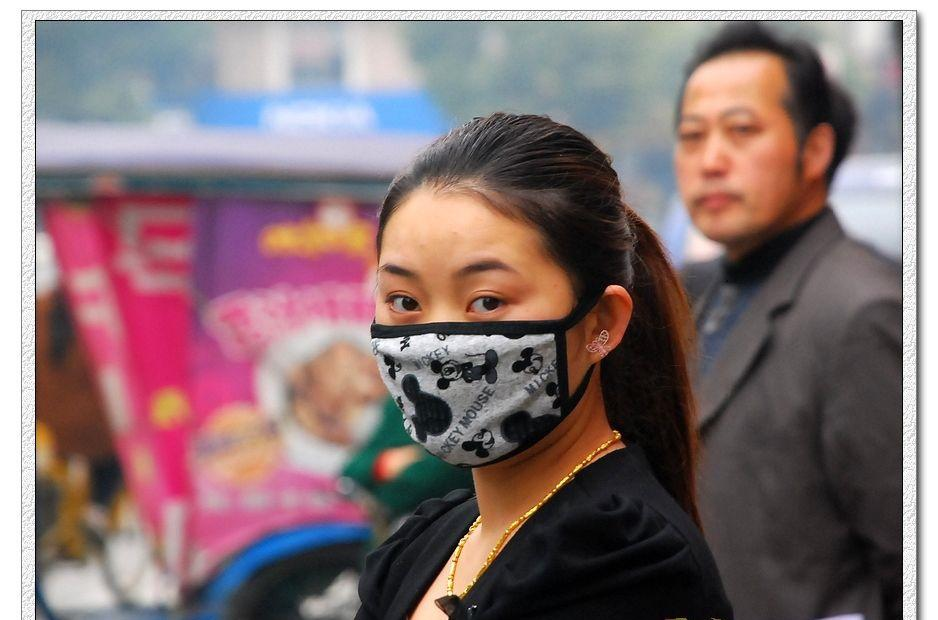NONE: (673, 102, 793, 237)
OK: (372, 255, 575, 458)
